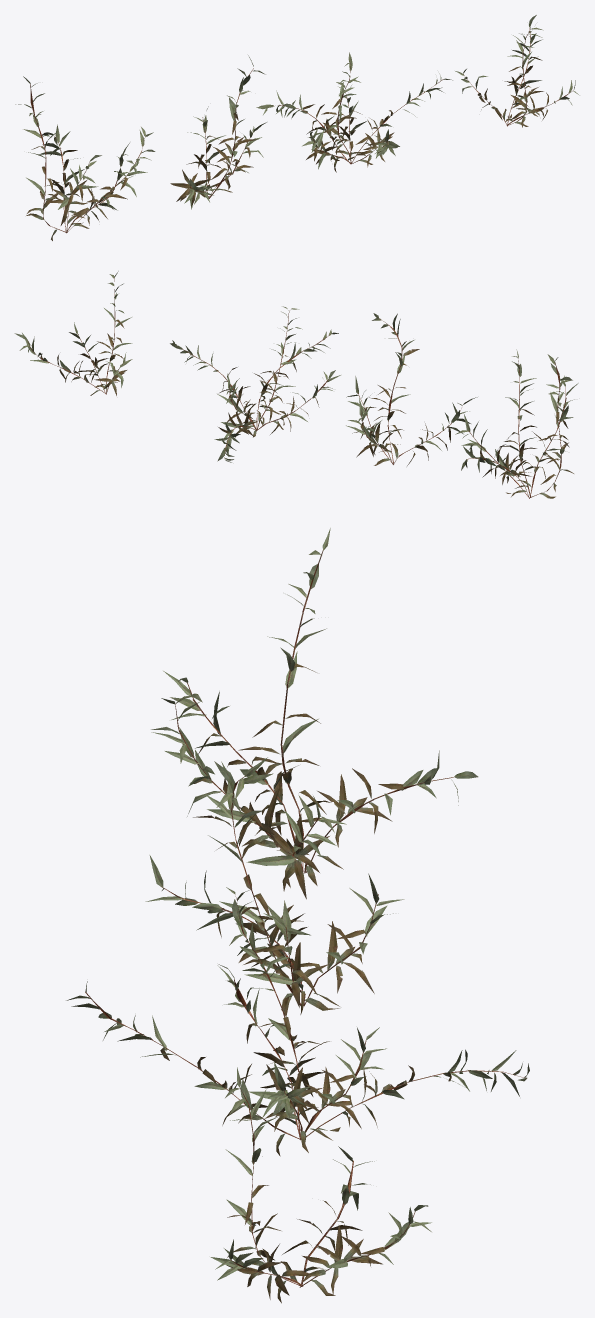
The model's file is shrubA.glb.
3 renders of one model, top to bottom at view 1: azimuth 30°, elevation 25°; view 2: azimuth 150°, elevation 25°; view 3: azimuth 270°, elevation 25°, orthographic. The views are drawn at different scales.
Visible parts, largest first — view 1: shrub_02_a, shrub_02_c, shrub_02_b, shrub_02_d; view 2: shrub_02_c, shrub_02_a, shrub_02_b, shrub_02_d; view 3: shrub_02_a, shrub_02_c, shrub_02_b, shrub_02_d.
Part boxes in pixels (x1,y1,x2,y2): shrub_02_a: (15, 76, 155, 240); shrub_02_c: (256, 52, 452, 172); shrub_02_b: (170, 55, 266, 209); shrub_02_d: (455, 15, 579, 127); shrub_02_c: (170, 306, 340, 462); shrub_02_a: (455, 349, 578, 498); shrub_02_b: (346, 313, 477, 465); shrub_02_d: (14, 271, 132, 395); shrub_02_a: (151, 528, 478, 899); shrub_02_c: (66, 887, 529, 1156); shrub_02_b: (145, 757, 404, 1016); shrub_02_d: (210, 1067, 431, 1303).
Size of the model in its own units: 6.03 by 1.69 by 2.28.
Materials: 1 (1 with a texture image).
